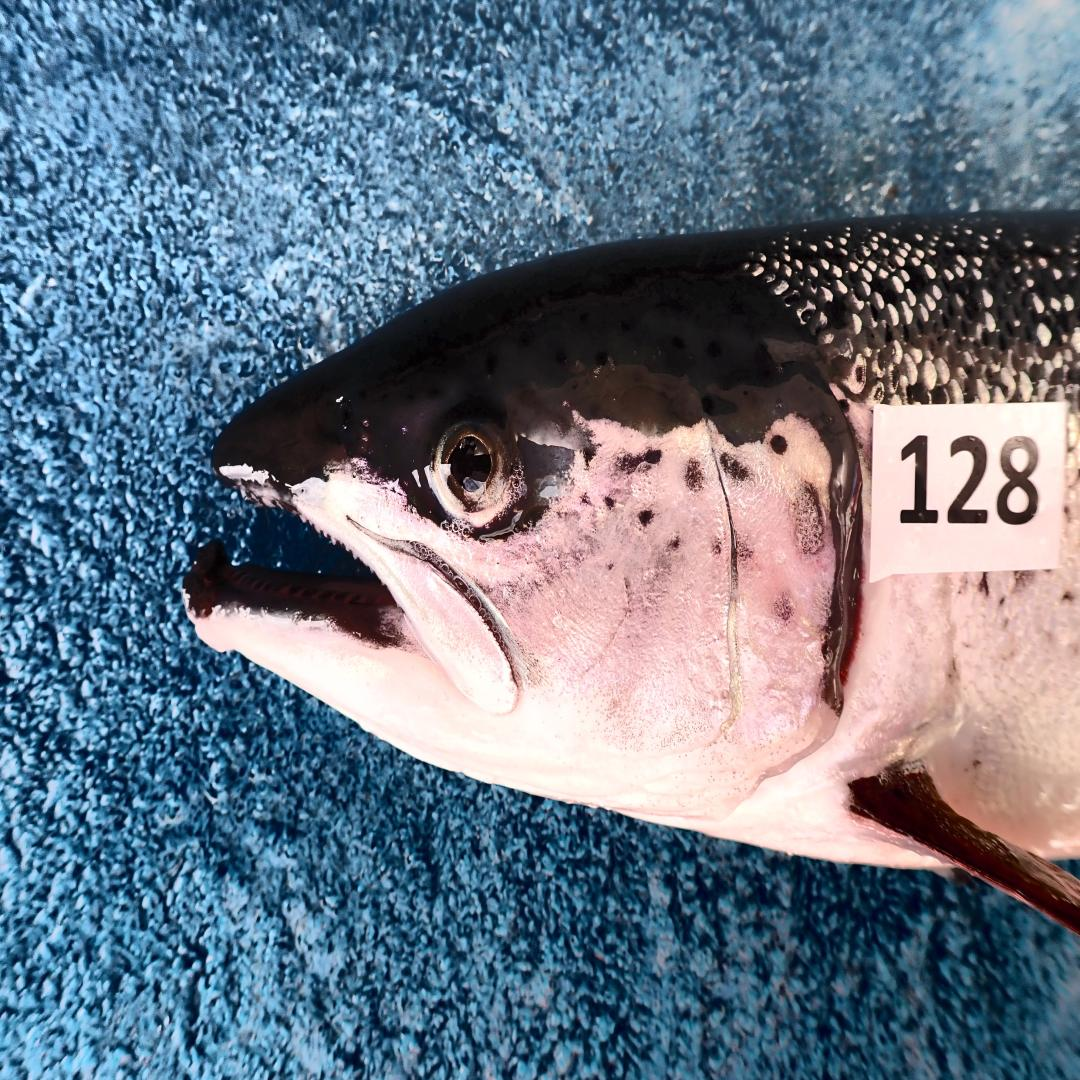spot: (793, 484, 825, 554), (616, 447, 662, 475), (719, 453, 751, 481), (683, 458, 705, 492), (772, 593, 795, 624), (736, 529, 755, 565), (582, 444, 597, 467), (770, 436, 787, 456), (711, 537, 726, 557), (637, 509, 654, 526), (667, 532, 681, 551), (557, 510, 580, 521), (603, 495, 616, 509), (580, 492, 591, 506), (605, 560, 616, 571)
